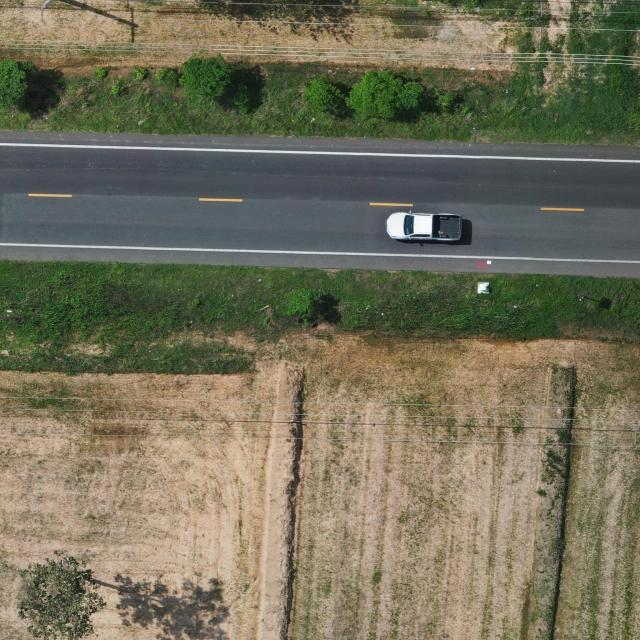Tree: (14, 547, 107, 640), (348, 68, 426, 123), (180, 52, 231, 99), (0, 59, 38, 109), (300, 76, 345, 112), (288, 287, 320, 318)
